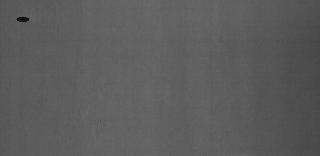punching hole: (14, 15, 30, 22)
